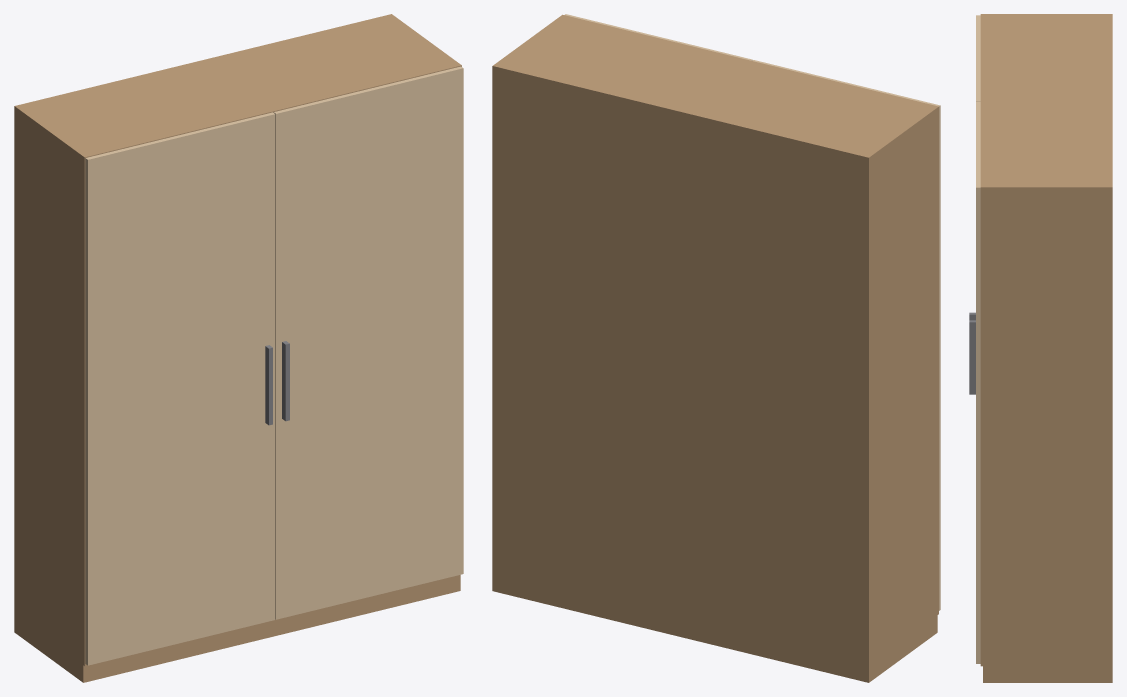
The model's file is closet.glb.
The picture shows the model from 3 angles, left to right: view 1: azimuth 30°, elevation 25°; view 2: azimuth 150°, elevation 25°; view 3: azimuth 270°, elevation 25°; orthographic projection. The views are drawn at different scales.
Visible parts, largest first — view 1: Mueble; view 2: Mueble; view 3: Mueble.
Boxes of the visible parts, x1,y1,x2,y2 form: Mueble: (14, 14, 463, 682); Mueble: (492, 14, 940, 682); Mueble: (969, 14, 1112, 682).
Bounding box in the file's own units: 1.8 × 2.4 × 0.63.
